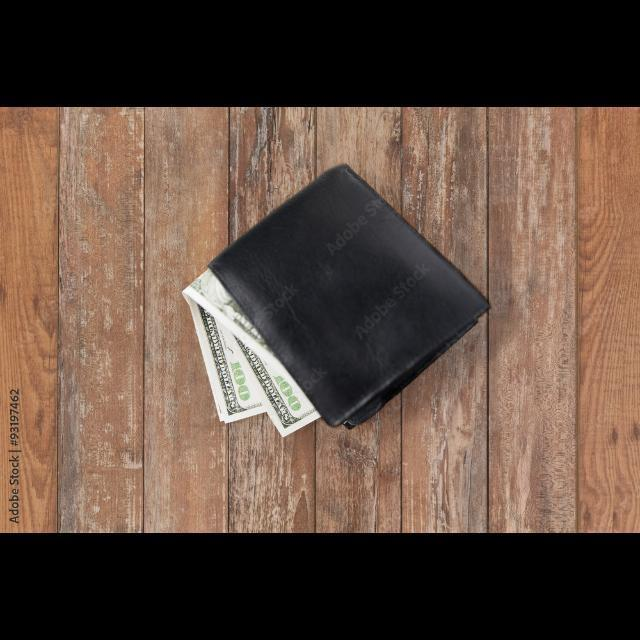wallet: (176, 144, 530, 460)
